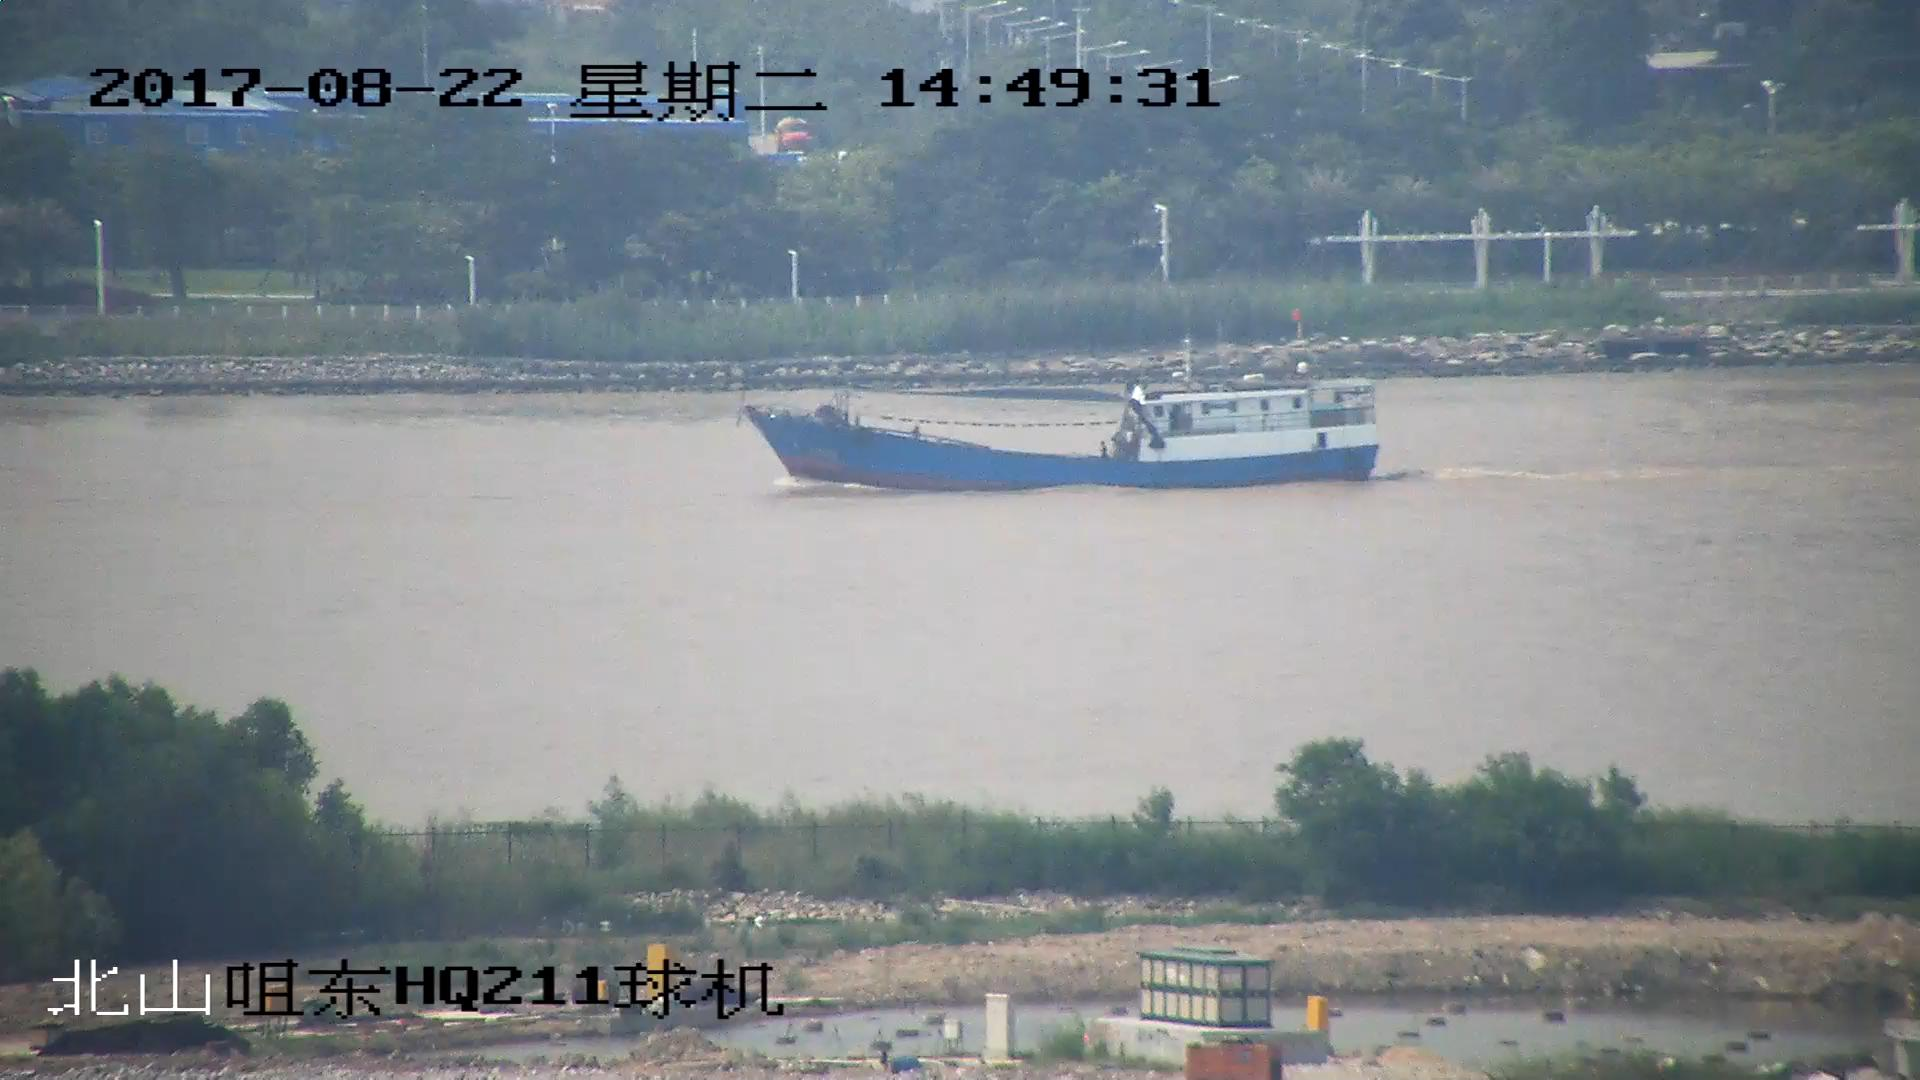fishing boat: (740, 322, 1380, 496)
